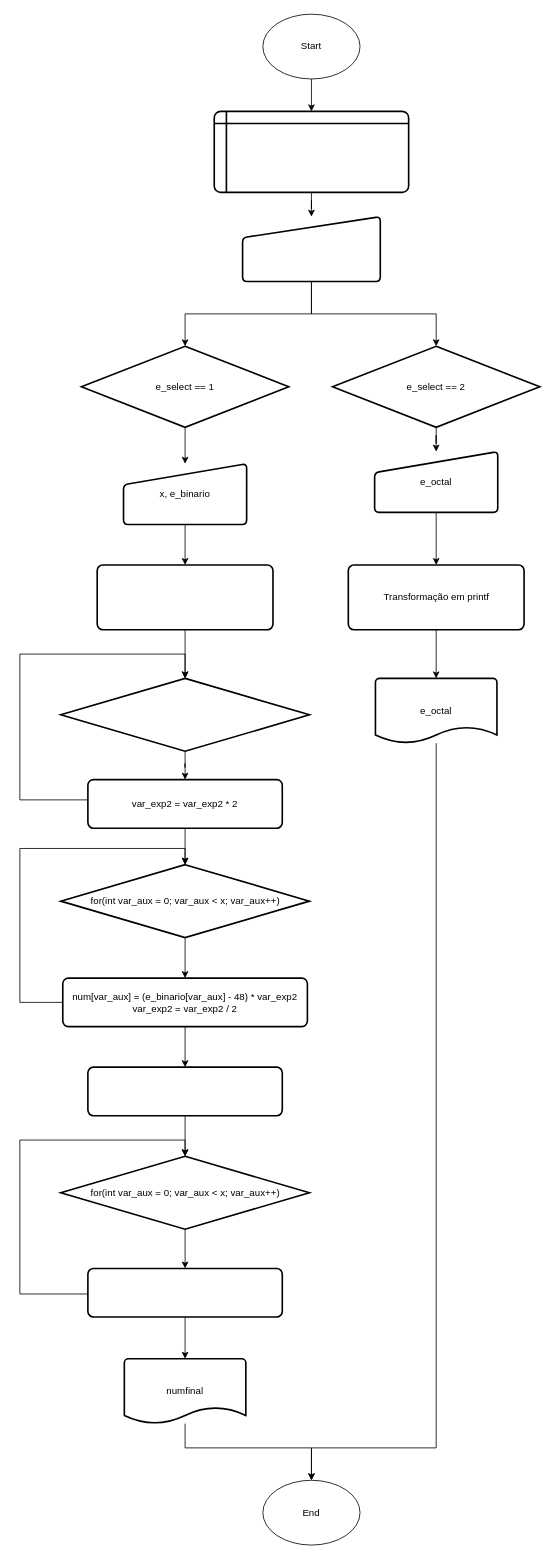
The diagram is 555 pixels wide and 1559 high, and some of its shapes have lost their labels. The shapes that lost their labels are listed below. From the top down, each one's centre as x and y in pixels, then its label:
At (x=311, y=151): "e_select, e_octal, x, num final".
At (x=311, y=248): "e_select".
At (x=184, y=597): "char num[x] int var_exp2".
At (x=185, y=714): "for(int var_aux = 1; var_aux < x; var_aux++)".
At (x=185, y=1091): "numfinal = 0".
At (x=185, y=1292): "numfinal = numfinal + num[var_aux]".
